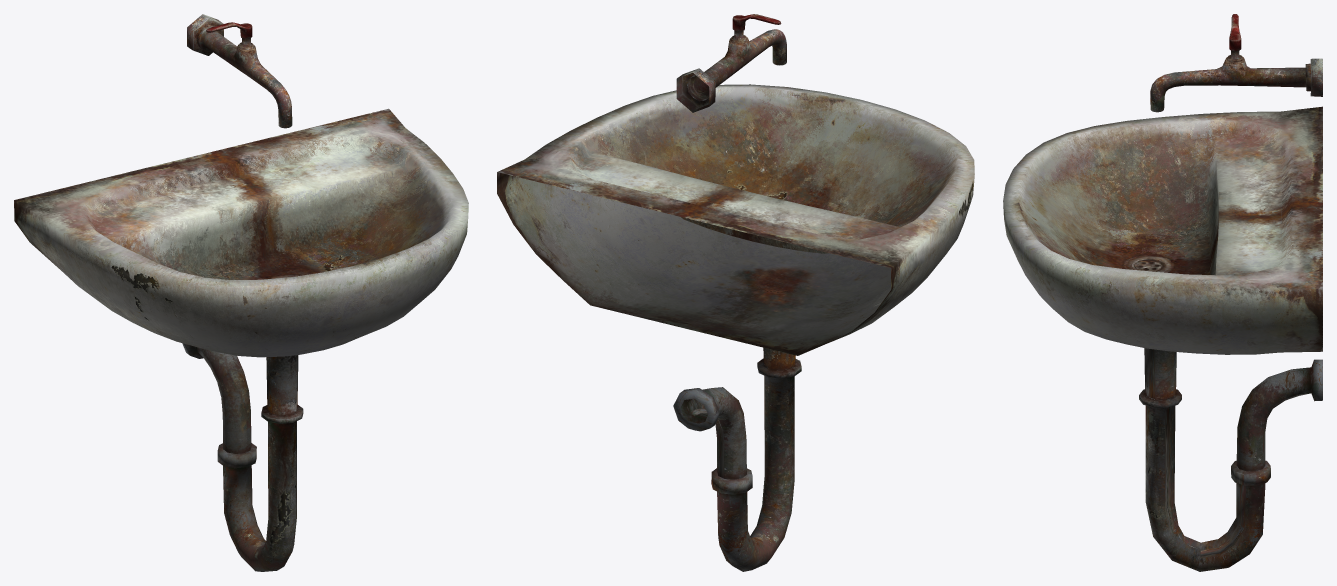
3 renders of one model, left to right at view 1: azimuth 30°, elevation 25°; view 2: azimuth 150°, elevation 25°; view 3: azimuth 270°, elevation 25°, orthographic. The views are drawn at different scales.
Parts seen in each view (by area): view 1: polySurface1685; view 2: polySurface1685; view 3: polySurface1685.
Part boxes in pixels (x1=…): polySurface1685: x1=14, y1=14, x2=468, y2=571; polySurface1685: x1=497, y1=14, x2=974, y2=571; polySurface1685: x1=1003, y1=14, x2=1322, y2=571.
Size of the model in its own units: 3.4 by 4.68 by 2.51.
1 material, 1 textured.
